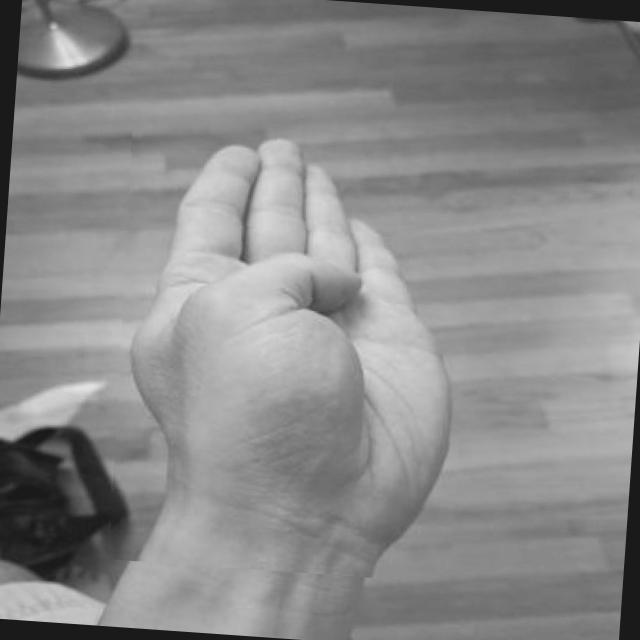B: (102, 115, 480, 582)
